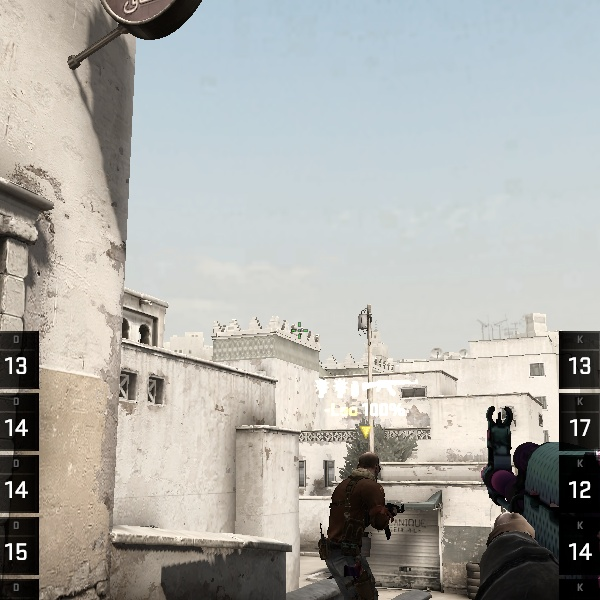t_body: (300, 448, 405, 600)
t_head: (349, 448, 388, 487)
